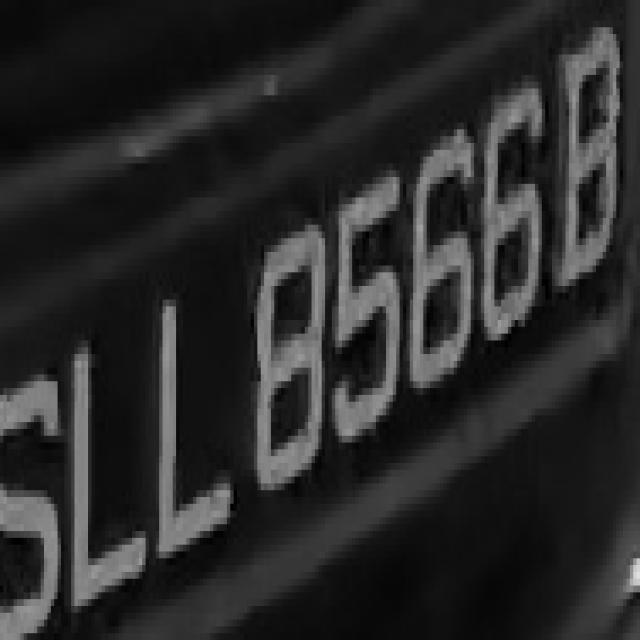5: (332, 150, 403, 456)
6: (406, 116, 484, 415), (471, 61, 548, 354)
8: (250, 197, 332, 497)
B: (555, 20, 623, 286)
L: (142, 279, 237, 558), (64, 313, 142, 606)
S: (0, 326, 64, 626)
